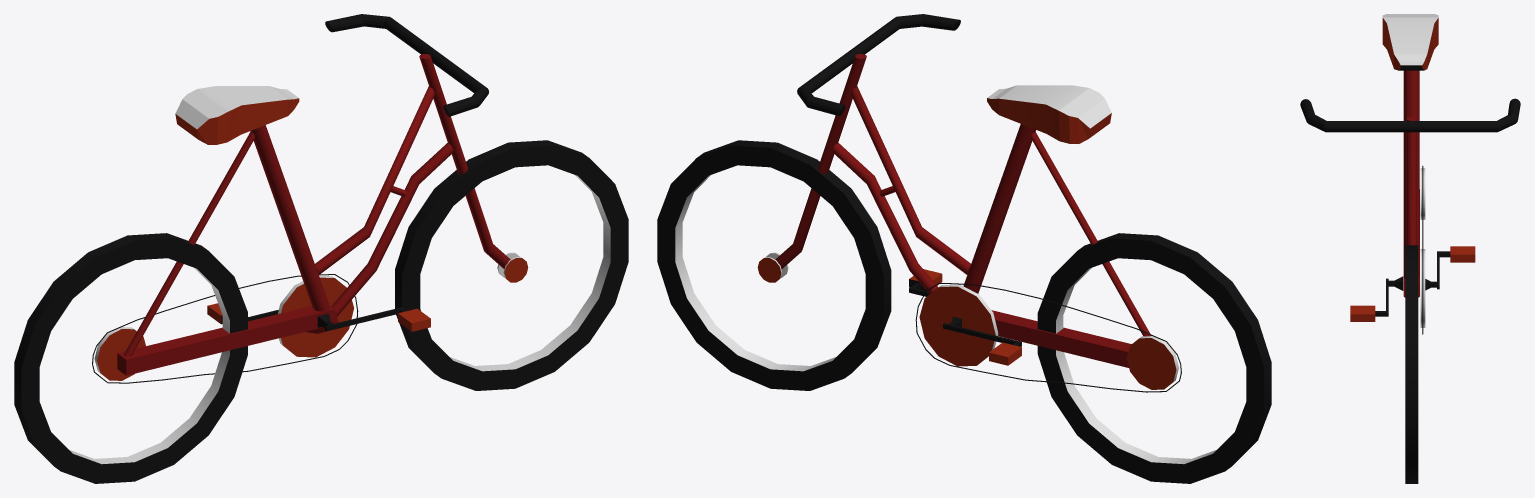
The model's file is Bicycle_M_v1_Carrie.FBX.
3 views of the same model, side by side, from view 1: azimuth 30°, elevation 25°; view 2: azimuth 150°, elevation 25°; view 3: azimuth 270°, elevation 25° (orthographic). The views are drawn at different scales.
Parts seen in each view (by area): view 1: bicycle; view 2: bicycle; view 3: bicycle.
Part boxes in pixels (x1,y1,x2,y2): bicycle: (14, 14, 628, 483); bicycle: (657, 14, 1271, 483); bicycle: (1300, 14, 1520, 483).
Bounding box in the file's own units: 666 × 377 × 232.
